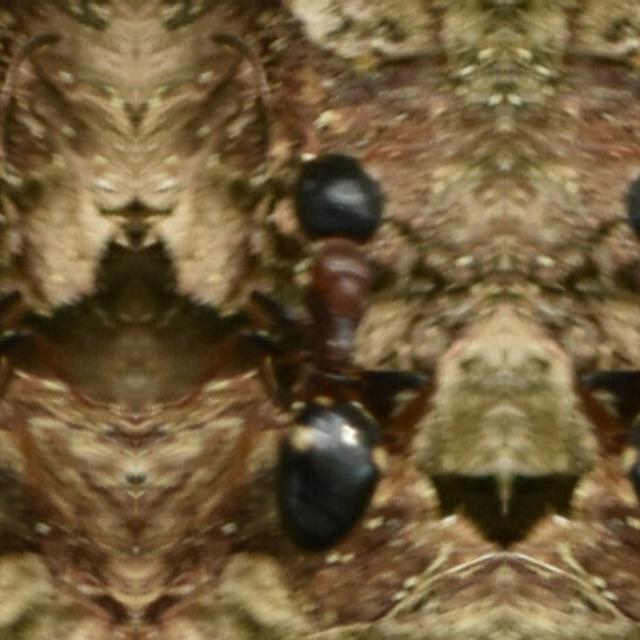Dolichoderus: (188, 45, 460, 628), (548, 44, 640, 626), (0, 43, 80, 626)
